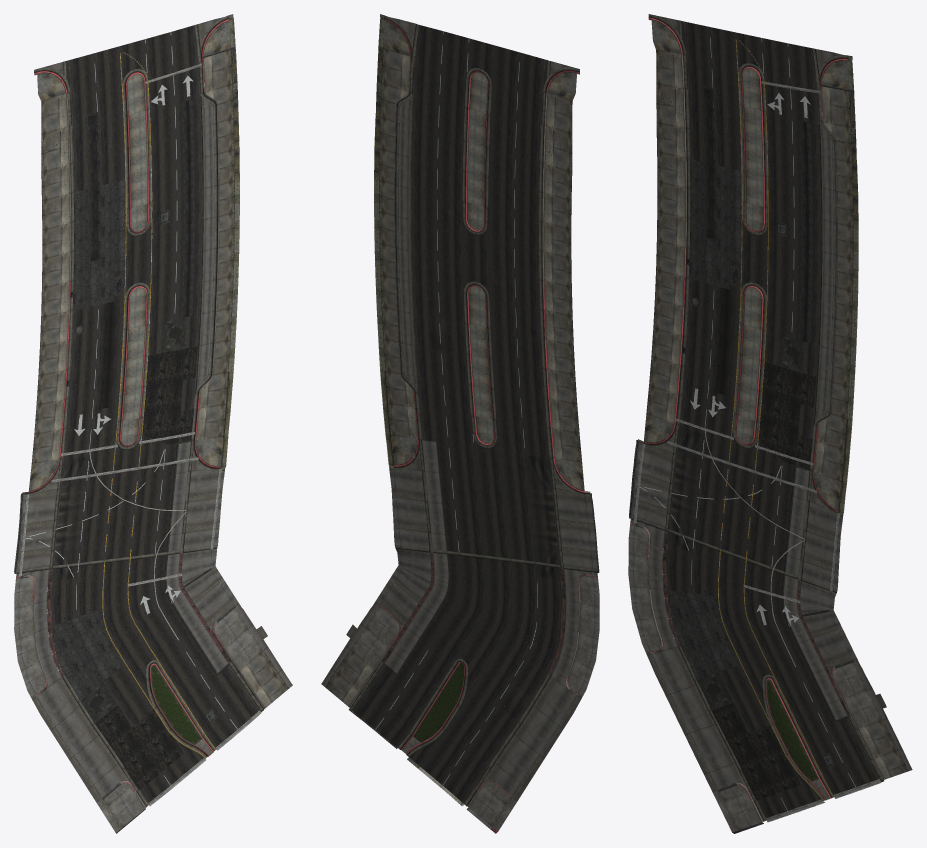
The picture shows the model from 3 angles, left to right: view 1: azimuth 30°, elevation 25°; view 2: azimuth 150°, elevation 25°; view 3: azimuth 330°, elevation 25°; orthographic projection. The views are drawn at different scales.
Parts seen in each view (by area): view 1: sc1_rd_r1_01; view 2: sc1_rd_r1_01; view 3: sc1_rd_r1_01.
Part boxes in pixels (box(x1,y1,x2,y2)): sc1_rd_r1_01: box(14, 14, 292, 833); sc1_rd_r1_01: box(321, 14, 599, 833); sc1_rd_r1_01: box(628, 14, 912, 833).
Size of the model in its own units: 5792 by 15720 by 76.95.
